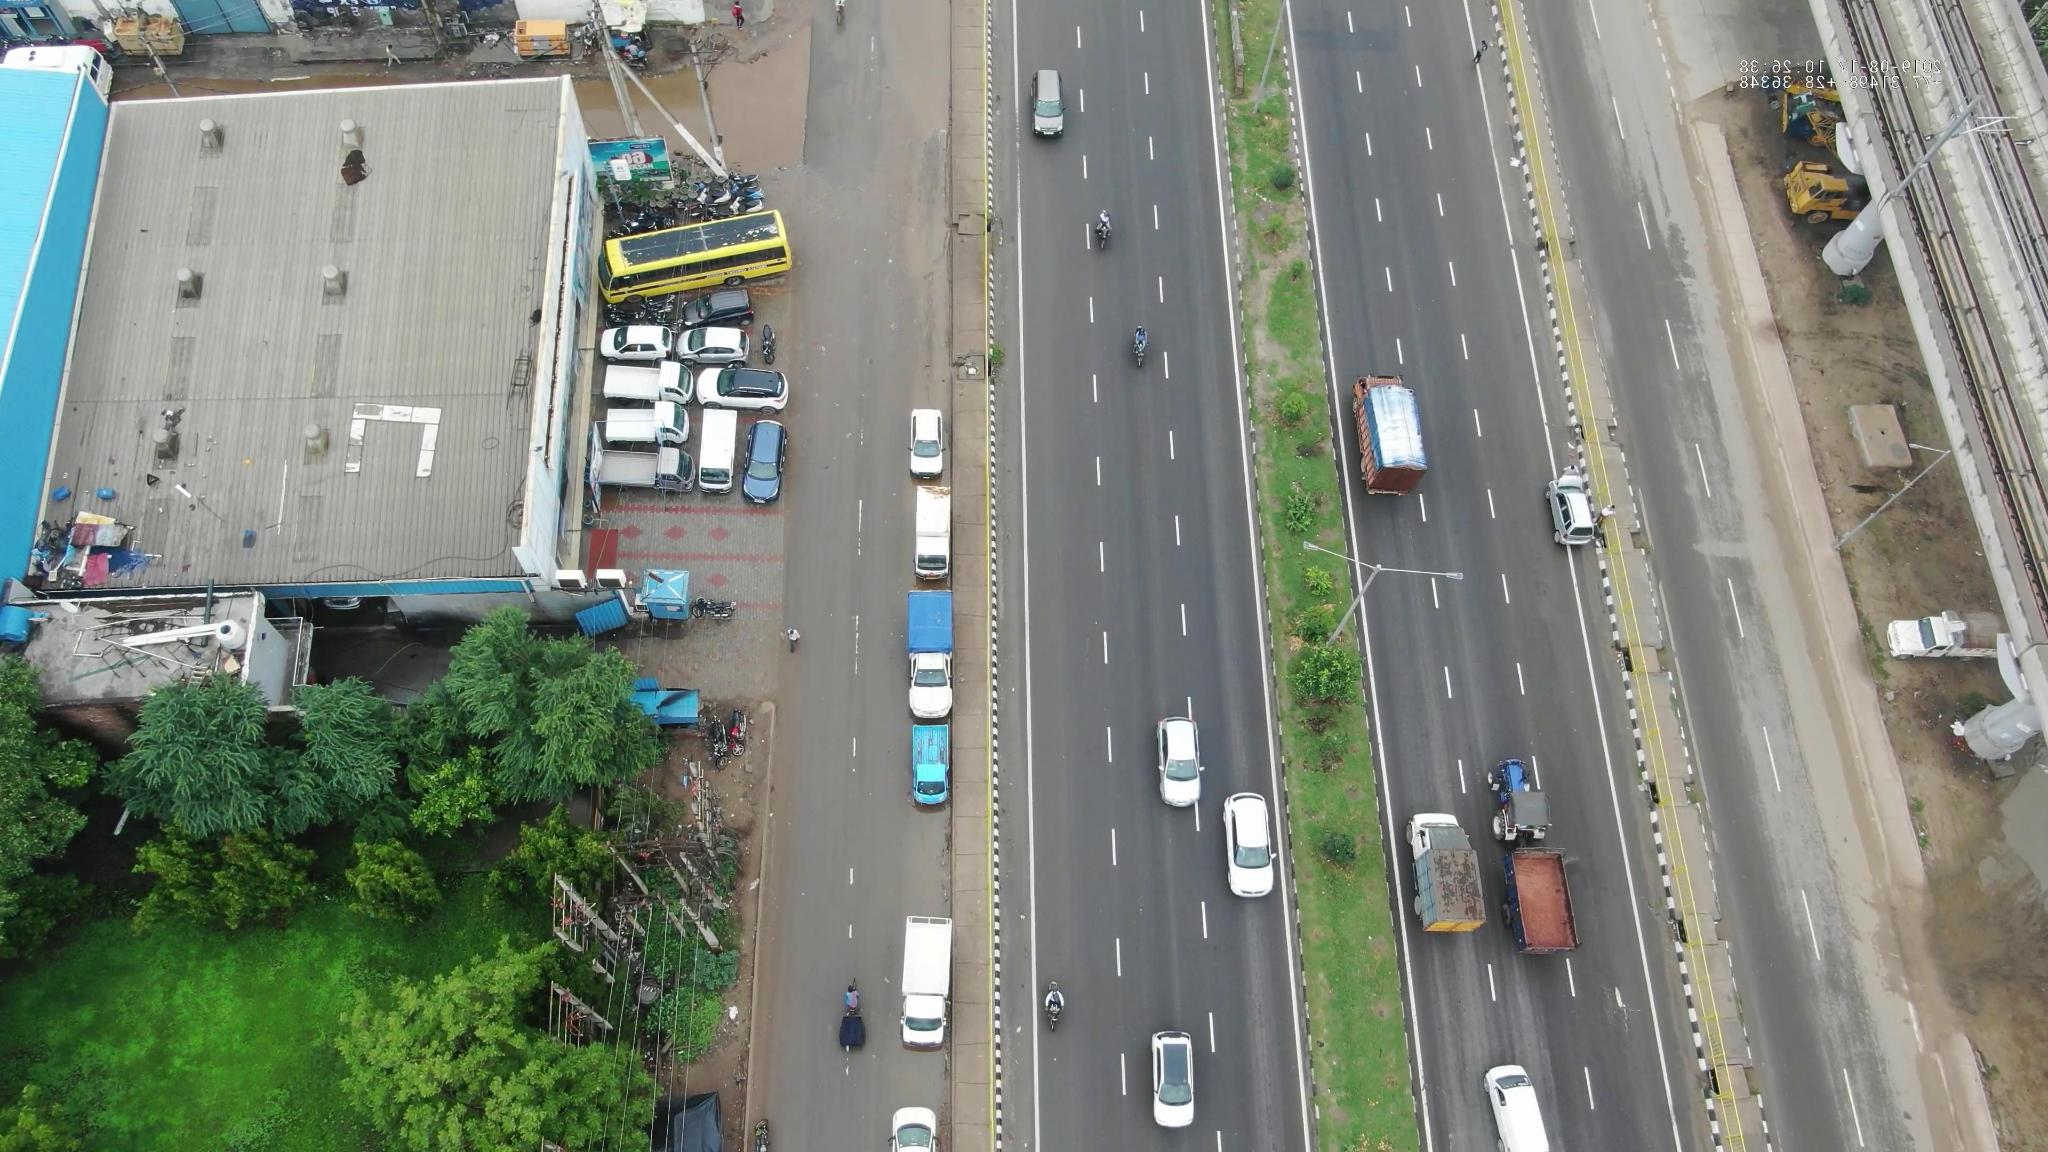Muddy_road: (896, 153, 951, 398), (1761, 433, 1813, 558), (745, 966, 788, 1108), (1724, 324, 1769, 422), (1709, 219, 1748, 316), (1681, 115, 1715, 219), (758, 786, 782, 919), (1793, 606, 1841, 670)
Waterlogging: (881, 1, 959, 131)
